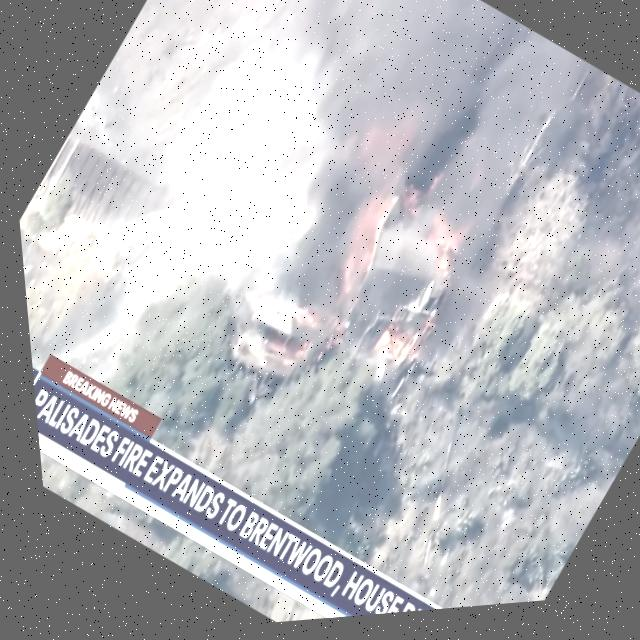Smoke: (263, 0, 602, 299)
